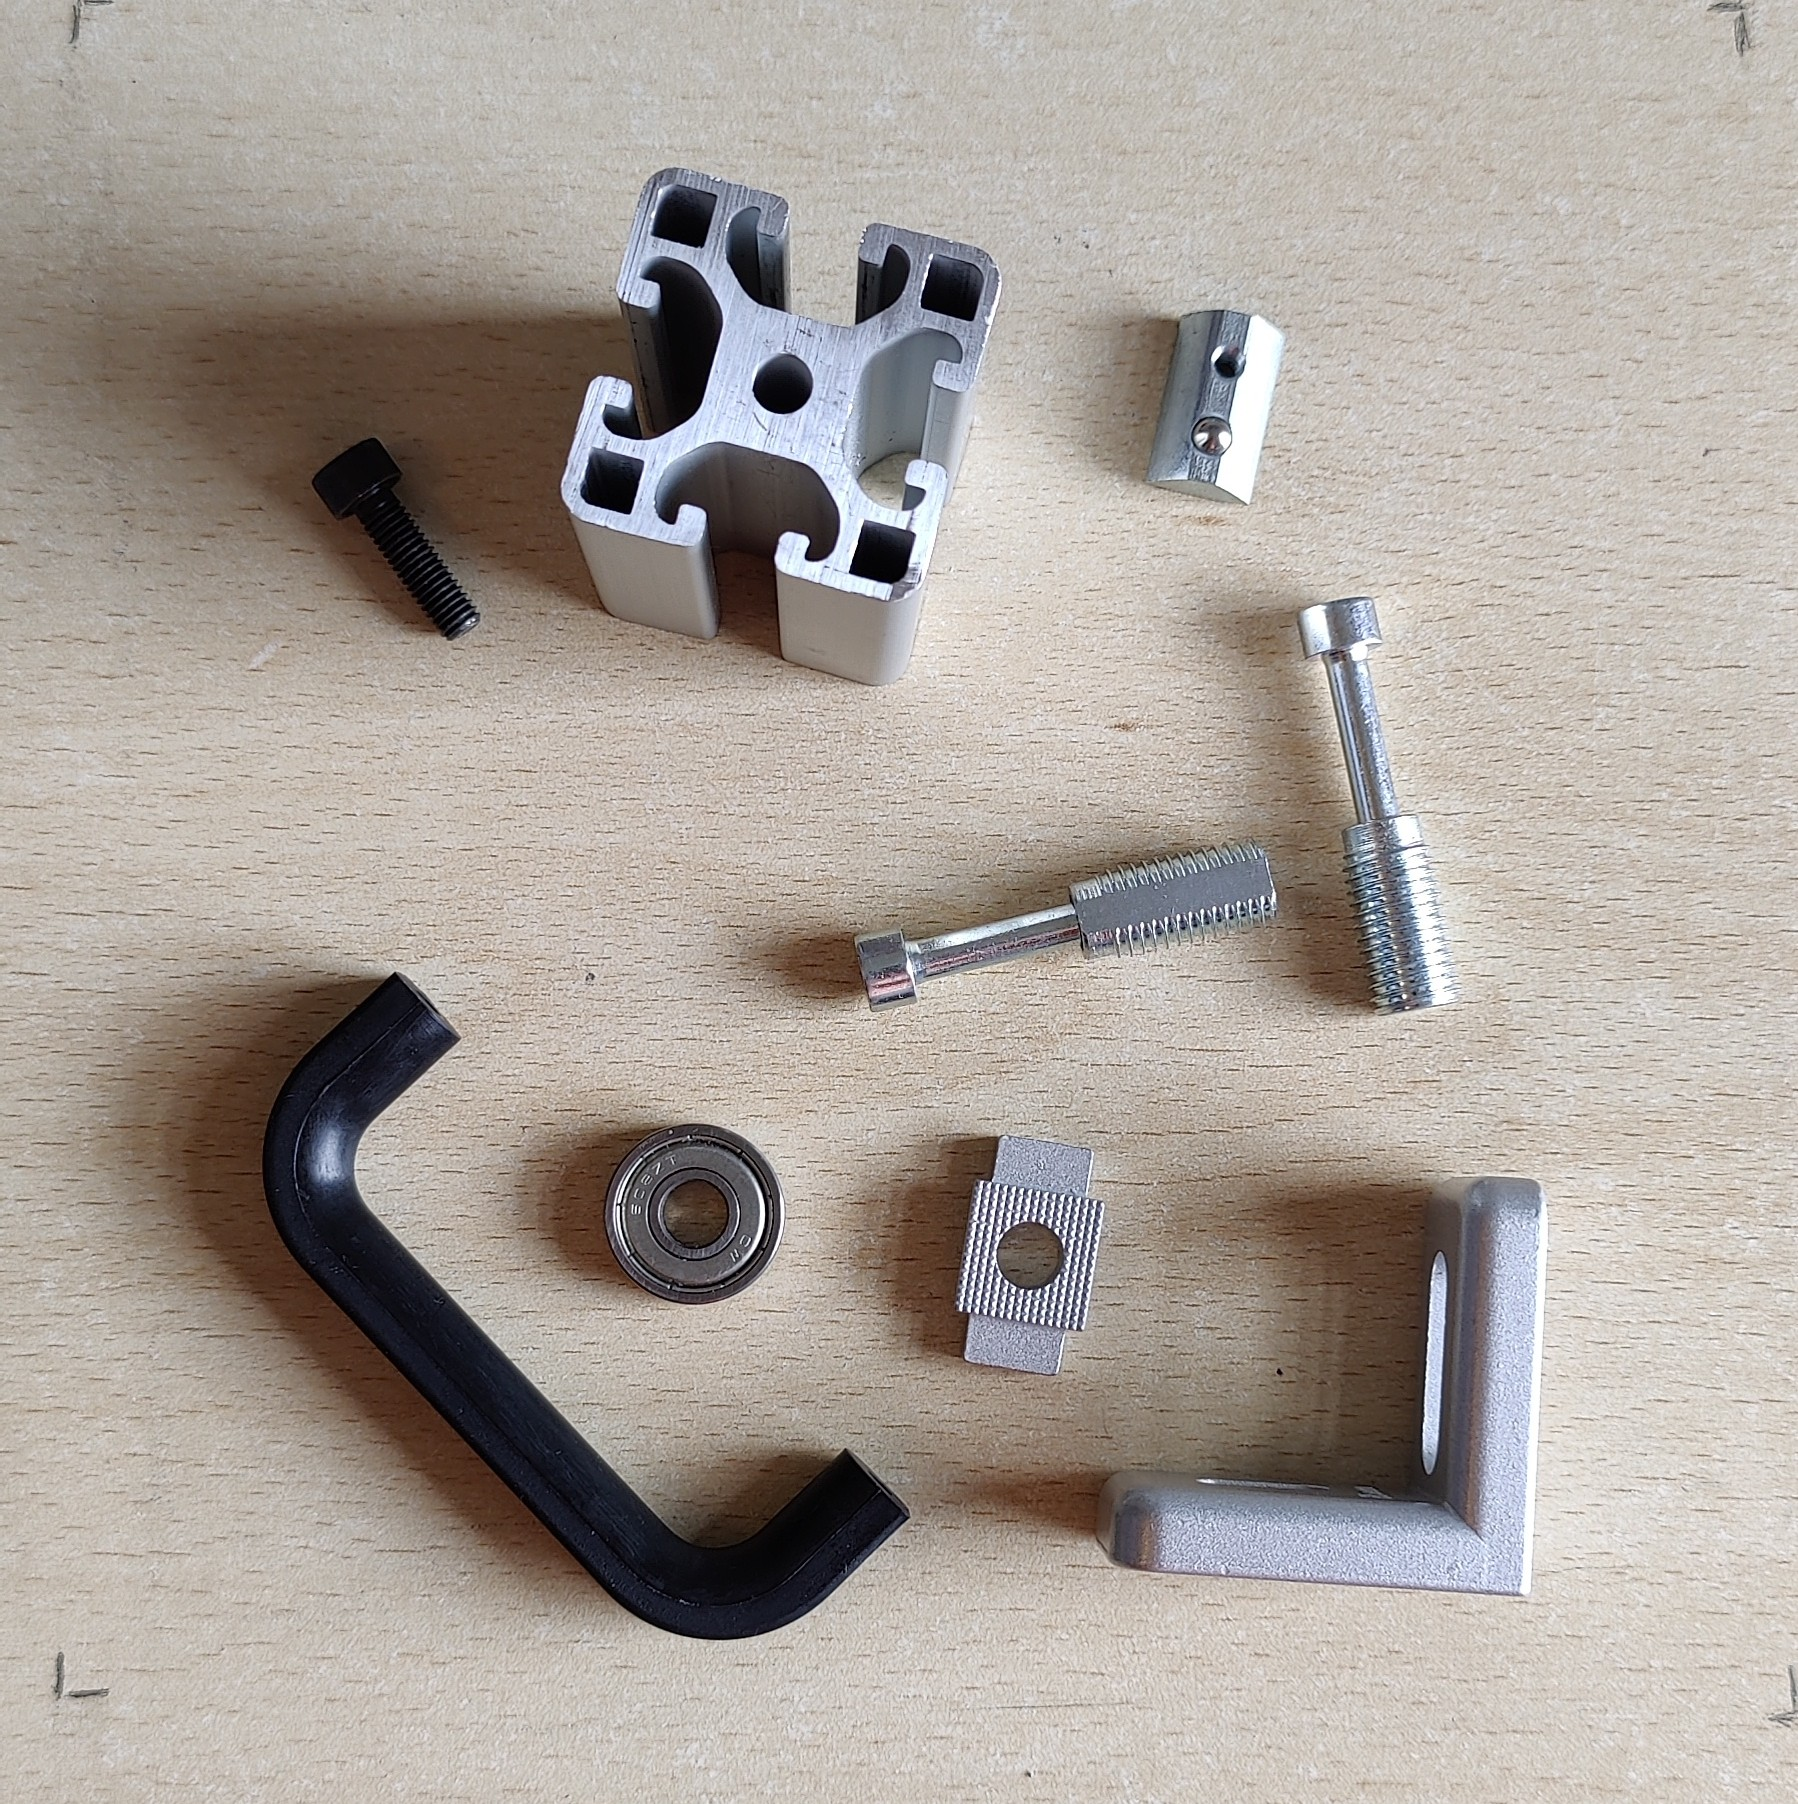Aluminium Extension: (561, 163, 1006, 690)
Ball Bearing: (599, 1121, 789, 1307)
Multiwinkel: (1092, 1170, 1554, 1602)
Pull Handle: (255, 969, 914, 1643)
Shoulder Socket Head Cap Screw: (850, 833, 1281, 1016), (1293, 593, 1462, 1019)
Socket Head Cap Screw: (311, 433, 486, 647)
T Nut Square: (953, 1131, 1106, 1379)
T Spring Nut: (1141, 308, 1288, 510)
